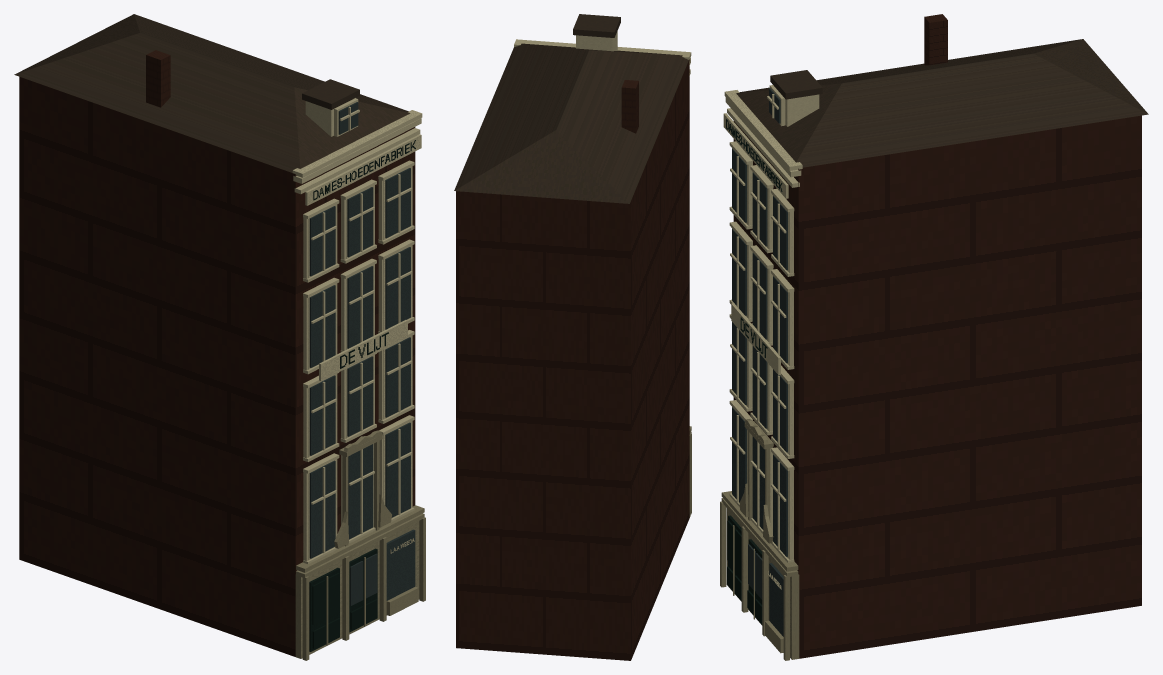
3 views of the same model, side by side, from view 1: azimuth 30°, elevation 25°; view 2: azimuth 150°, elevation 25°; view 3: azimuth 270°, elevation 25° (orthographic). The views are drawn at different scales.
Visible parts, largest first — view 1: nieuwehaven171-devlijt-0, nieuwehaven171-devlijt-1, nieuwehaven171-devlijt-4, nieuwehaven171-devlijt-2, nieuwehaven171-devlijt-3, nieuwehaven171-devlijt-5; view 2: nieuwehaven171-devlijt-0, nieuwehaven171-devlijt-1, nieuwehaven171-devlijt-2; view 3: nieuwehaven171-devlijt-0, nieuwehaven171-devlijt-1, nieuwehaven171-devlijt-2, nieuwehaven171-devlijt-4, nieuwehaven171-devlijt-3, nieuwehaven171-devlijt-5.
Boxes of the visible parts, x1,y1,x2,y2 form: nieuwehaven171-devlijt-0: [19, 50, 415, 656]; nieuwehaven171-devlijt-1: [14, 14, 410, 172]; nieuwehaven171-devlijt-4: [309, 102, 415, 605]; nieuwehaven171-devlijt-2: [292, 98, 422, 563]; nieuwehaven171-devlijt-3: [295, 430, 425, 660]; nieuwehaven171-devlijt-5: [309, 140, 415, 651]; nieuwehaven171-devlijt-0: [456, 59, 689, 660]; nieuwehaven171-devlijt-1: [454, 14, 688, 203]; nieuwehaven171-devlijt-2: [514, 31, 691, 75]; nieuwehaven171-devlijt-0: [733, 14, 1141, 658]; nieuwehaven171-devlijt-1: [736, 39, 1148, 167]; nieuwehaven171-devlijt-2: [723, 85, 819, 589]; nieuwehaven171-devlijt-4: [732, 88, 787, 636]; nieuwehaven171-devlijt-3: [720, 419, 799, 660]; nieuwehaven171-devlijt-5: [726, 119, 782, 624].
Bounding box in the file's own units: 11.06 × 21.45 × 15.25.
Materials: 6 (6 with a texture image).
